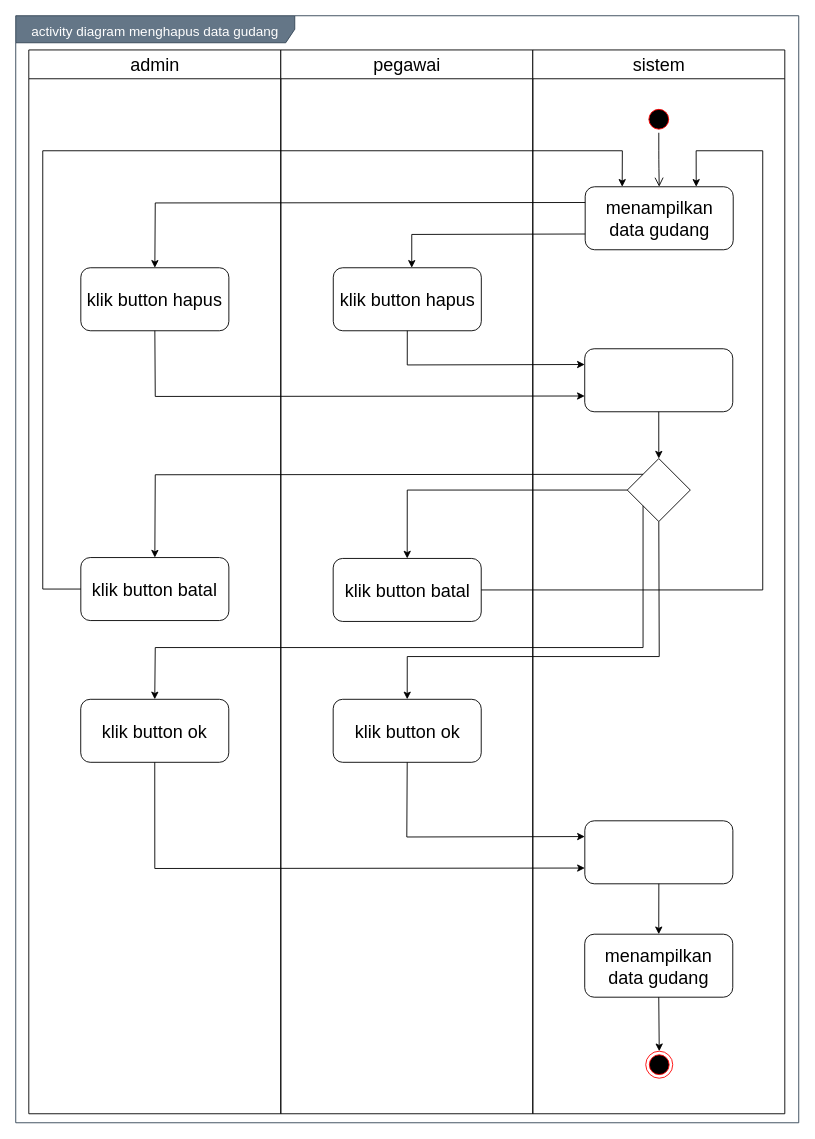
The diagram is 815 pixels wide and 1139 high, and some of its shapes have lost their labels. The centre of each missing label's shape, as x and y in pixels:
menampilkan konfirmasi hapus data gudang: the point at 658,380
menghapus data gudang: the point at 658,852
